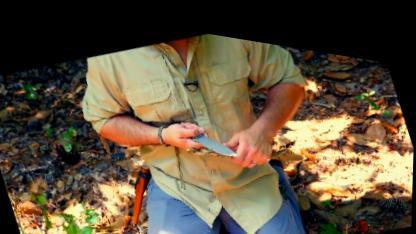knife: (174, 97, 240, 168)
